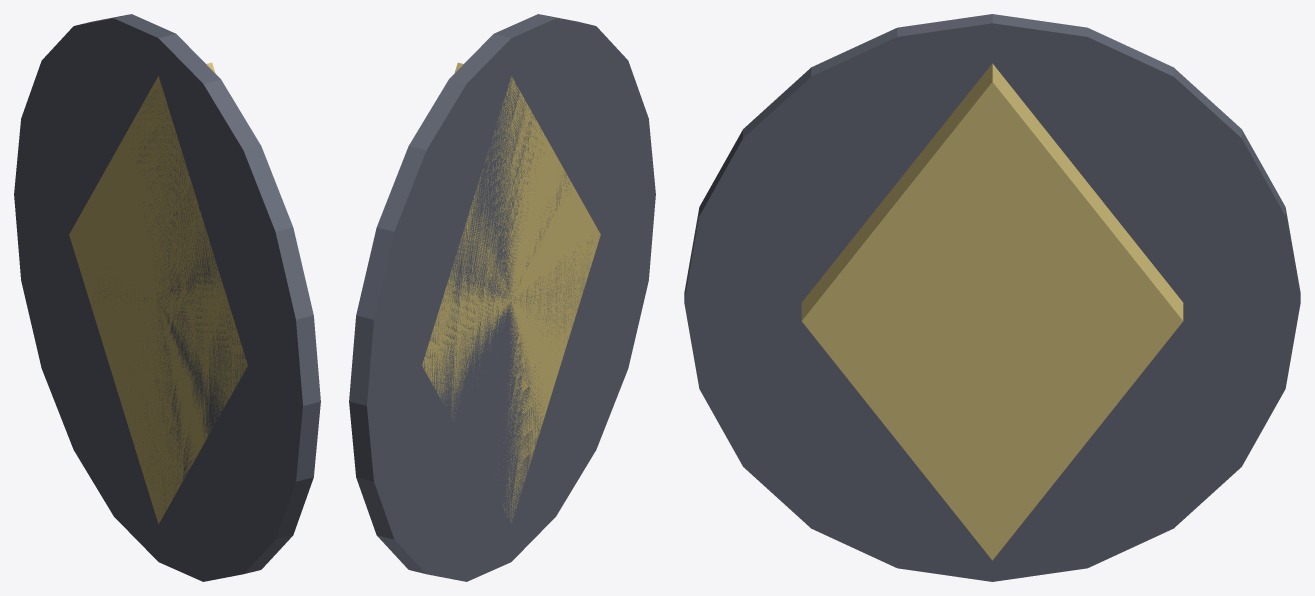
Rendered from SM_BM_HV_Emblem_Diamond.glb.
The picture shows the model from 3 angles, left to right: view 1: azimuth 30°, elevation 25°; view 2: azimuth 150°, elevation 25°; view 3: azimuth 270°, elevation 25°; orthographic projection. The views are drawn at different scales.
Visible parts, largest first — view 1: SM_BM_HV_Emblem_Diamond; view 2: SM_BM_HV_Emblem_Diamond; view 3: SM_BM_HV_Emblem_Diamond.
Boxes of the visible parts, bbox=[...] form: SM_BM_HV_Emblem_Diamond: bbox=[14, 14, 320, 581]; SM_BM_HV_Emblem_Diamond: bbox=[349, 14, 655, 581]; SM_BM_HV_Emblem_Diamond: bbox=[684, 14, 1300, 581].
Bounding box in the file's own units: 0.09 × 0.84 × 0.84.
